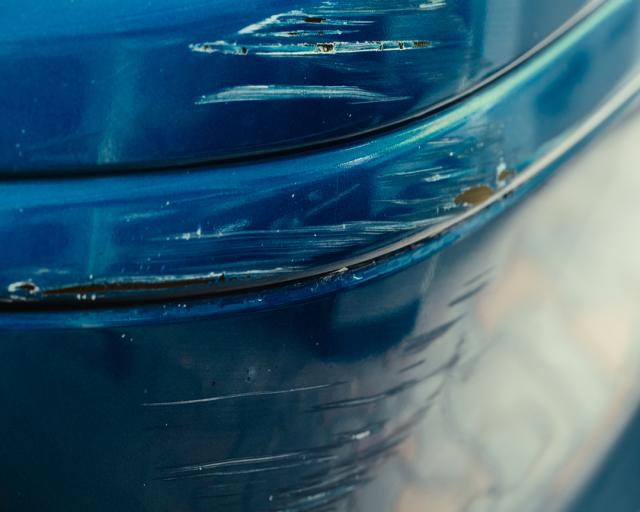scratch: (0, 0, 515, 512)
